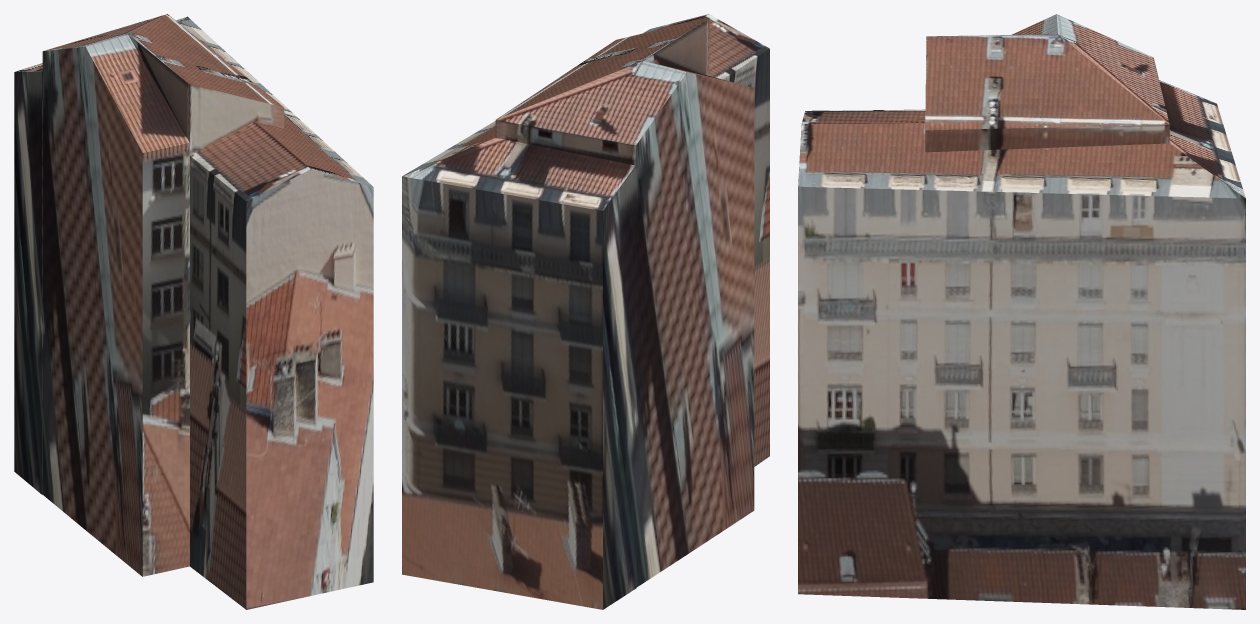
3 views of the same model, side by side, from view 1: azimuth 30°, elevation 25°; view 2: azimuth 150°, elevation 25°; view 3: azimuth 270°, elevation 25° (orthographic). The views are drawn at different scales.
Visible parts, largest first — view 1: Z_UP; view 2: Z_UP; view 3: Z_UP.
Boxes of the visible parts, x1,y1,x2,y2 form: Z_UP: (14, 14, 373, 609); Z_UP: (402, 14, 769, 609); Z_UP: (798, 14, 1245, 609).
Bounding box in the file's own units: 11.29 × 26.28 × 21.34.
2 materials, 1 textured.
